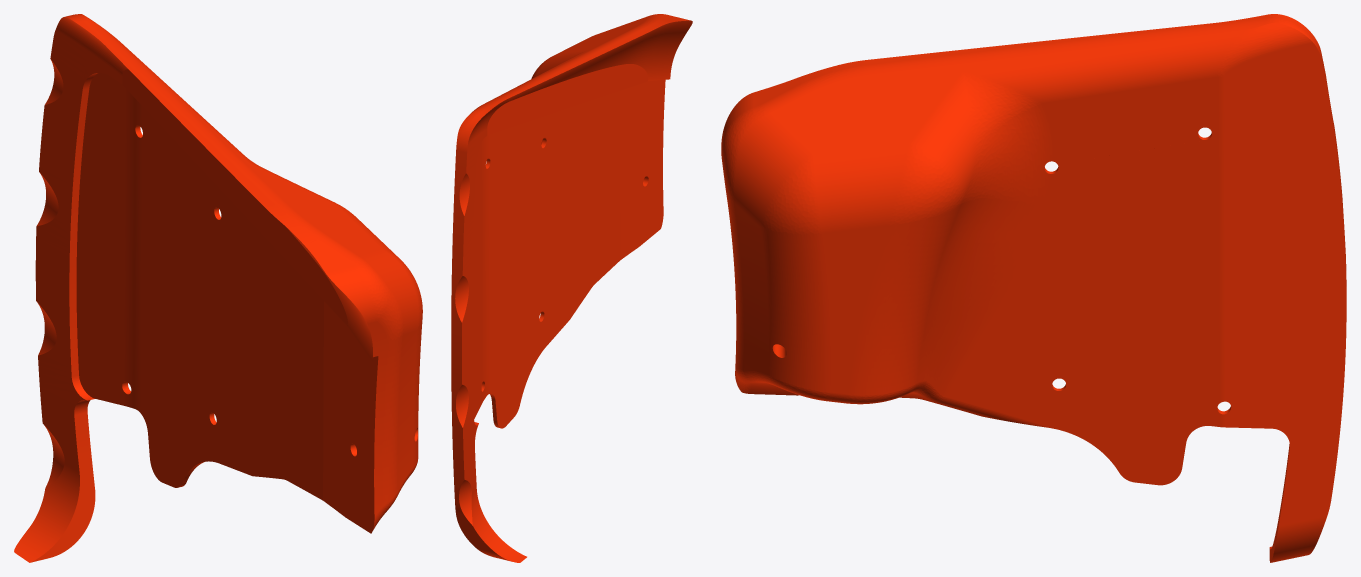
Rendered from ALLEX_Right_Hand_Palm_Pad.obj.
3 views of the same model, side by side, from view 1: azimuth 30°, elevation 25°; view 2: azimuth 150°, elevation 25°; view 3: azimuth 270°, elevation 25° (orthographic). The views are drawn at different scales.
Bounding box in the file's own units: 0.03 × 0.0879 × 0.0895.
